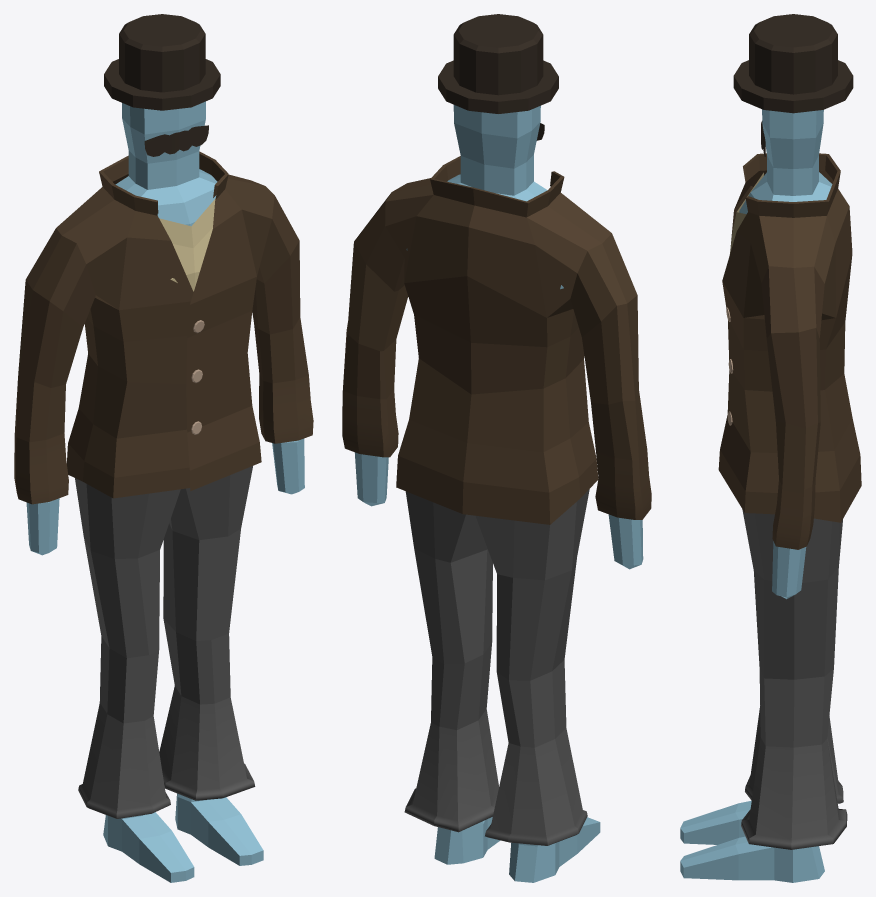
The model's file is NPC1Jacket.fbx.
3 views of the same model, side by side, from view 1: azimuth 30°, elevation 25°; view 2: azimuth 150°, elevation 25°; view 3: azimuth 270°, elevation 25° (orthographic). The views are drawn at different scales.
Visible parts, largest first — view 1: Jacket1, Pants1, BaseMesh1, Hat1, Shirt1, pPlane1; view 2: Jacket1, Pants1, BaseMesh1, Hat1; view 3: Jacket1, Pants1, BaseMesh1, Hat1.
Part boxes in pixels (<box>): Jacket1: <box>14,151,313,504</box>; Pants1: <box>75,466,255,818</box>; BaseMesh1: <box>26,101,304,882</box>; Hat1: <box>104,14,220,110</box>; Shirt1: <box>159,198,215,291</box>; pPlane1: <box>144,125,208,156</box>; Jacket1: <box>342,156,651,524</box>; Pants1: <box>404,489,589,845</box>; BaseMesh1: <box>354,105,643,882</box>; Hat1: <box>438,14,558,113</box>; Jacket1: <box>718,153,861,549</box>; Pants1: <box>741,509,847,849</box>; BaseMesh1: <box>680,109,832,882</box>; Hat1: <box>733,14,853,113</box>.
Size of the model in its own units: 2.19 by 5.81 by 1.16.
